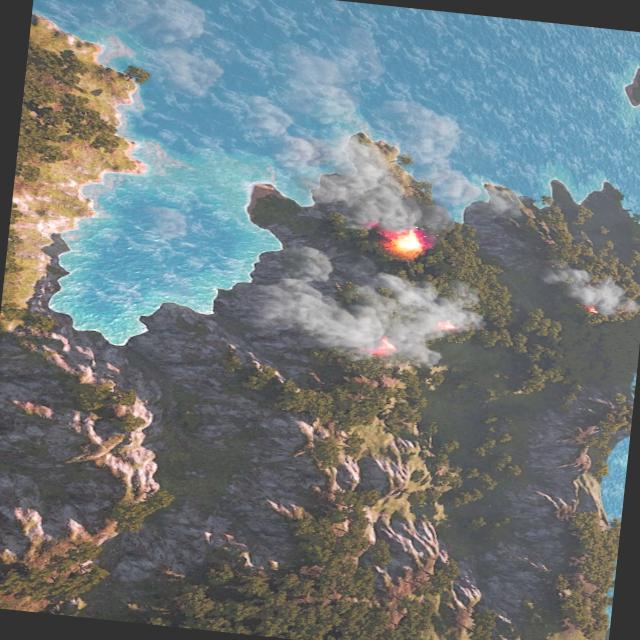fire: (380, 226, 428, 256), (366, 336, 396, 359), (434, 320, 456, 332), (583, 306, 598, 314)
smoke: (39, 0, 538, 241), (226, 230, 492, 370), (540, 262, 630, 314)
